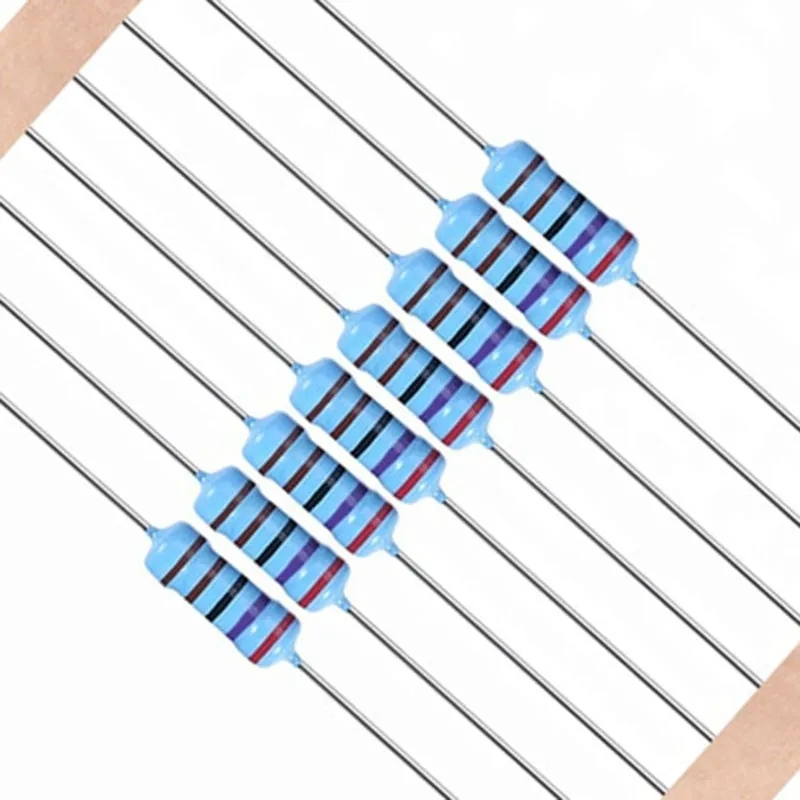resistor: (409, 173, 614, 362), (217, 389, 422, 578), (167, 445, 372, 634), (117, 500, 322, 689), (460, 119, 664, 308), (360, 228, 564, 417), (314, 284, 518, 473), (266, 336, 470, 525)
